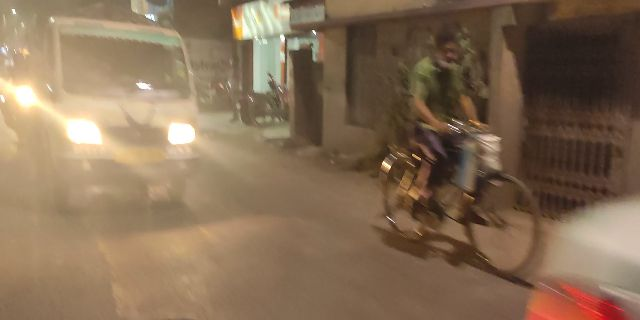Cycle: (353, 27, 551, 289)
Minitruck: (25, 5, 206, 235)
